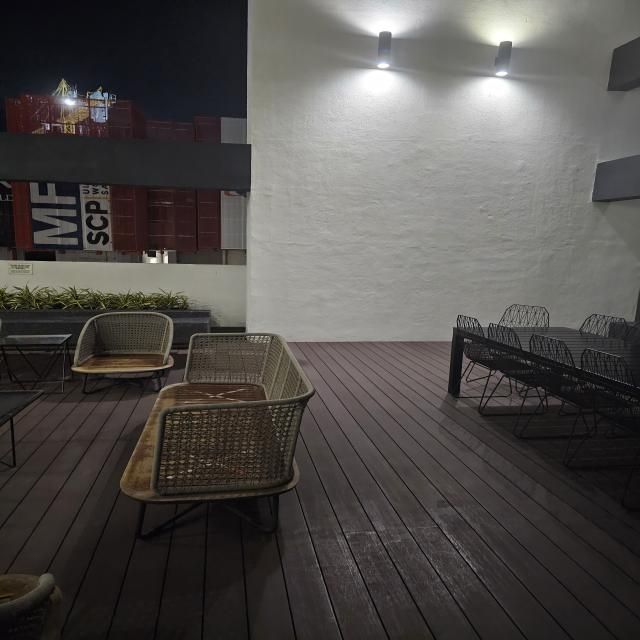obstacle: (118, 330, 317, 541), (423, 300, 640, 442), (0, 268, 178, 380), (0, 571, 66, 639)
